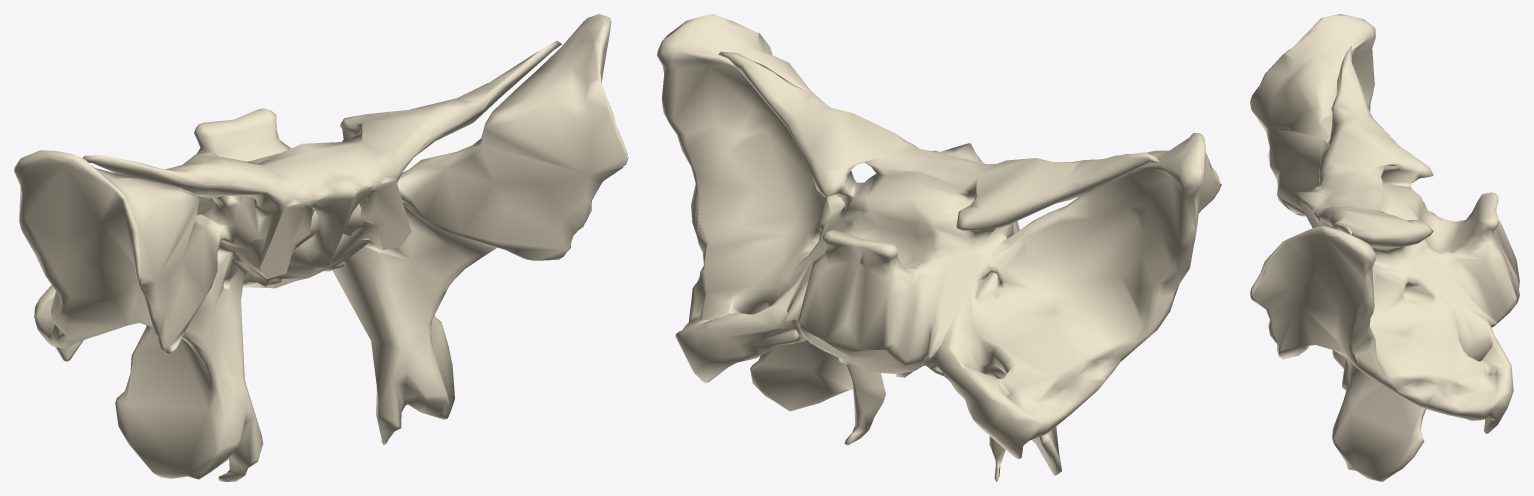
Rendered from esqueleto-sphenoid-bone.glb.
3 views of the same model, side by side, from view 1: azimuth 30°, elevation 25°; view 2: azimuth 150°, elevation 25°; view 3: azimuth 270°, elevation 25° (orthographic). The views are drawn at different scales.
Visible parts, largest first — view 1: Sphenoid bone; view 2: Sphenoid bone; view 3: Sphenoid bone.
Boxes of the visible parts, <box> form: Sphenoid bone: <box>14,14,628,481</box>; Sphenoid bone: <box>657,14,1221,481</box>; Sphenoid bone: <box>1250,14,1519,481</box>.
Bounding box in the file's own units: 0.1088 × 0.0699 × 0.0532.
